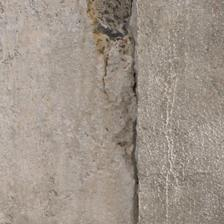Crack: (60, 16, 87, 208)
